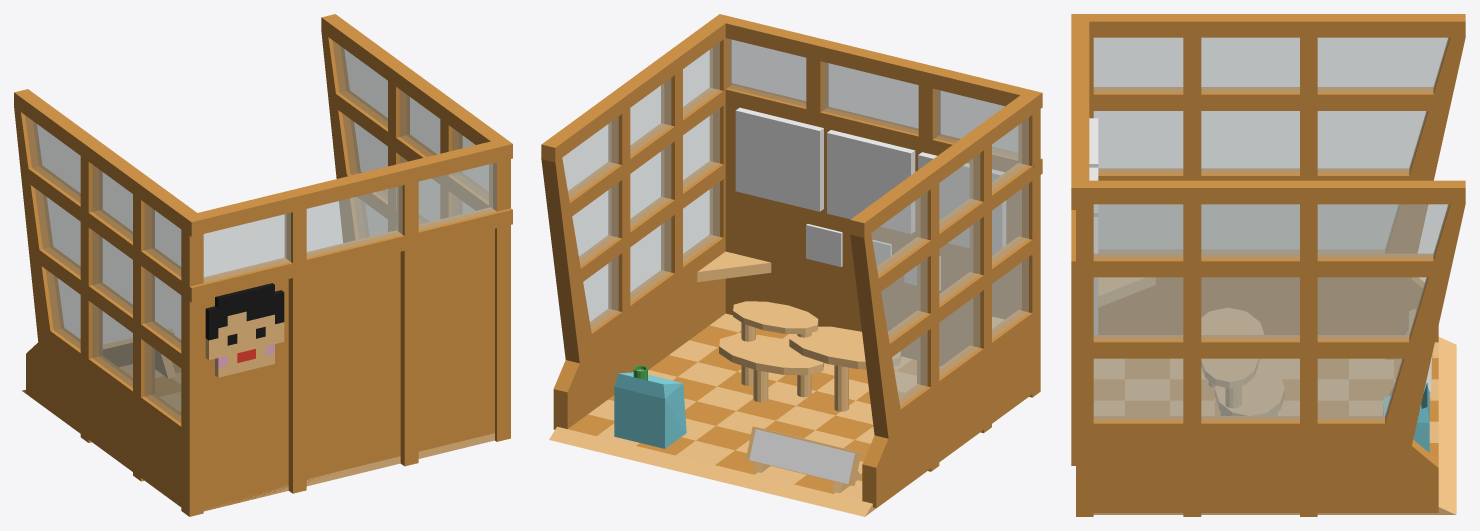
File: shop02.glb
3 renders of one model, left to right at view 1: azimuth 30°, elevation 25°; view 2: azimuth 150°, elevation 25°; view 3: azimuth 270°, elevation 25°, orthographic. The views are drawn at different scales.
Visible parts, largest first — view 1: group1151006410, group733832546, group320549947, group759068300, group855409092, group178869094, group738792703, group1361809281, group402894586, group569568878, group649830430, group1676143433 (+13 smaller); view 2: group1750544710, group1151006410, group733832546, group855409092, group320549947, group1861002096, group759068300, group1693430127, group178869094, group1513434598, group738792703, group750136364 (+25 smaller); view 3: group855409092, group733832546, group1861002096, group1750544710, group320549947, group1676143433, group649830430, group2004183210, group842461008, group84914558, group750136364, group1868678711 (+14 smaller).
Boxes of the visible parts, x1=… form: group1151006410: x1=203, y1=229, x2=494, y2=511; group733832546: x1=25, y1=115, x2=181, y2=422; group320549947: x1=26, y1=328, x2=187, y2=511; group759068300: x1=203, y1=162, x2=496, y2=282; group855409092: x1=332, y1=40, x2=488, y2=237; group178869094: x1=183, y1=138, x2=512, y2=236; group738792703: x1=183, y1=207, x2=512, y2=302; group1361809281: x1=181, y1=219, x2=203, y2=516; group402894586: x1=397, y1=170, x2=418, y2=466; group569568878: x1=285, y1=198, x2=306, y2=493; group649830430: x1=14, y1=89, x2=196, y2=228; group1676143433: x1=321, y1=14, x2=504, y2=144; group1750544710: x1=549, y1=313, x2=1027, y2=516; group1151006410: x1=725, y1=104, x2=1017, y2=365; group733832546: x1=871, y1=118, x2=1028, y2=405; group855409092: x1=562, y1=42, x2=719, y2=330; group320549947: x1=862, y1=310, x2=1038, y2=508; group1861002096: x1=553, y1=235, x2=725, y2=429; group759068300: x1=728, y1=39, x2=1017, y2=154; group1693430127: x1=735, y1=107, x2=823, y2=211; group178869094: x1=712, y1=14, x2=1042, y2=112; group1513434598: x1=827, y1=130, x2=915, y2=233; group738792703: x1=725, y1=83, x2=1042, y2=178; group750136364: x1=541, y1=158, x2=591, y2=363; group855409092: x1=1093, y1=204, x2=1449, y2=421; group733832546: x1=1093, y1=37, x2=1449, y2=251; group1861002096: x1=1080, y1=416, x2=1438, y2=512; group1750544710: x1=1093, y1=337, x2=1456, y2=514; group320549947: x1=1098, y1=251, x2=1438, y2=342; group1676143433: x1=1080, y1=180, x2=1465, y2=204; group649830430: x1=1089, y1=14, x2=1465, y2=37; group2004183210: x1=1080, y1=254, x2=1438, y2=277; group842461008: x1=1089, y1=87, x2=1438, y2=110; group84914558: x1=1080, y1=335, x2=1420, y2=358; group750136364: x1=1385, y1=204, x2=1465, y2=445; group1868678711: x1=1183, y1=197, x2=1201, y2=516.
Size of the model in its own units: 0.6803 by 0.6048 by 0.6508.
